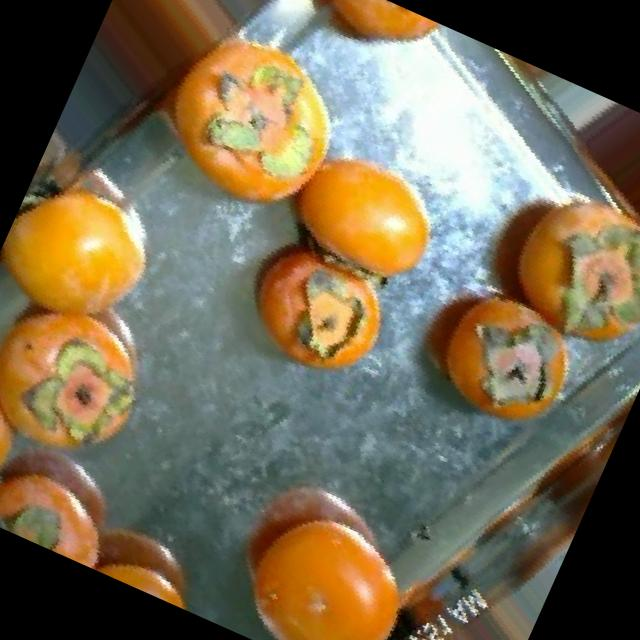Fruit: (245, 96, 484, 314), (192, 451, 464, 640), (208, 210, 424, 409), (22, 326, 166, 468), (259, 0, 461, 95), (70, 502, 226, 618)
